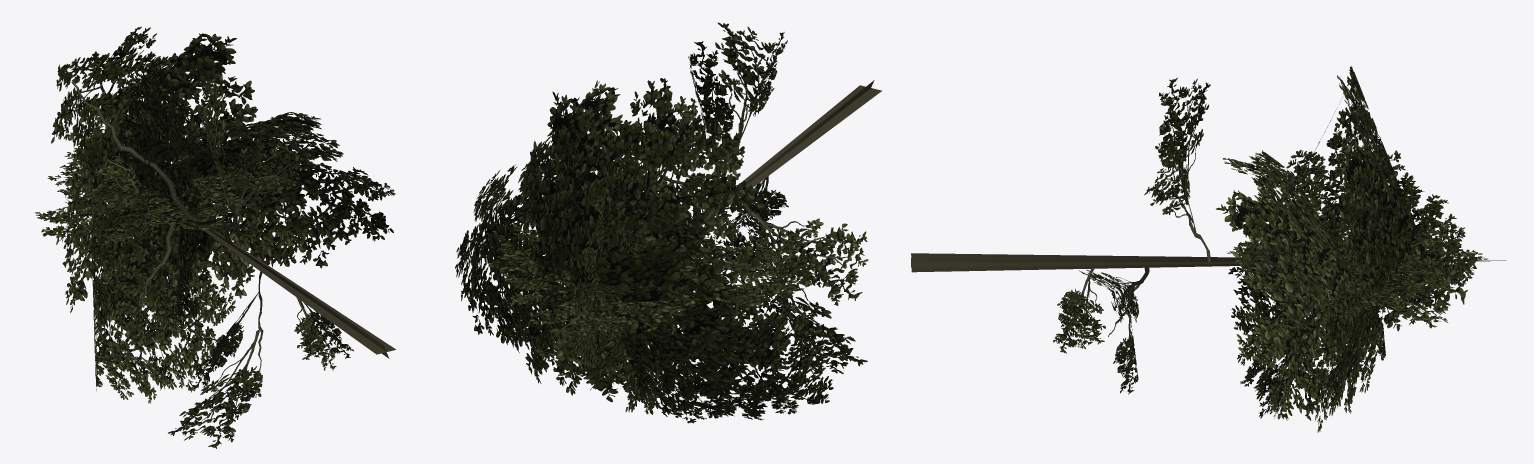
Rendered from Tree_02_i_LOD_01.fbx.
The picture shows the model from 3 angles, left to right: view 1: azimuth 30°, elevation 25°; view 2: azimuth 150°, elevation 25°; view 3: azimuth 270°, elevation 25°; orthographic projection. The views are drawn at different scales.
Visible parts, largest first — view 1: MEP_Leafs_02_i_LOD_01; view 2: MEP_Leafs_02_i_LOD_01; view 3: MEP_Leafs_02_i_LOD_01.
Part boxes in pixels (left/top/right/bottom): MEP_Leafs_02_i_LOD_01: left=35, top=26, right=396, bottom=448; MEP_Leafs_02_i_LOD_01: left=455, top=22, right=881, bottom=423; MEP_Leafs_02_i_LOD_01: left=911, top=66, right=1505, bottom=432.
Bounding box in the file's own units: 24.8 × 22.78 × 35.21.
